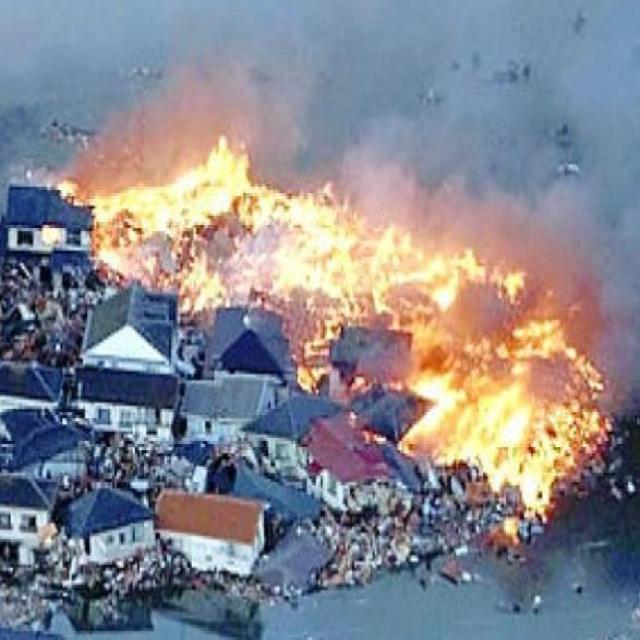Fire: (88, 166, 484, 338), (415, 309, 602, 526)
